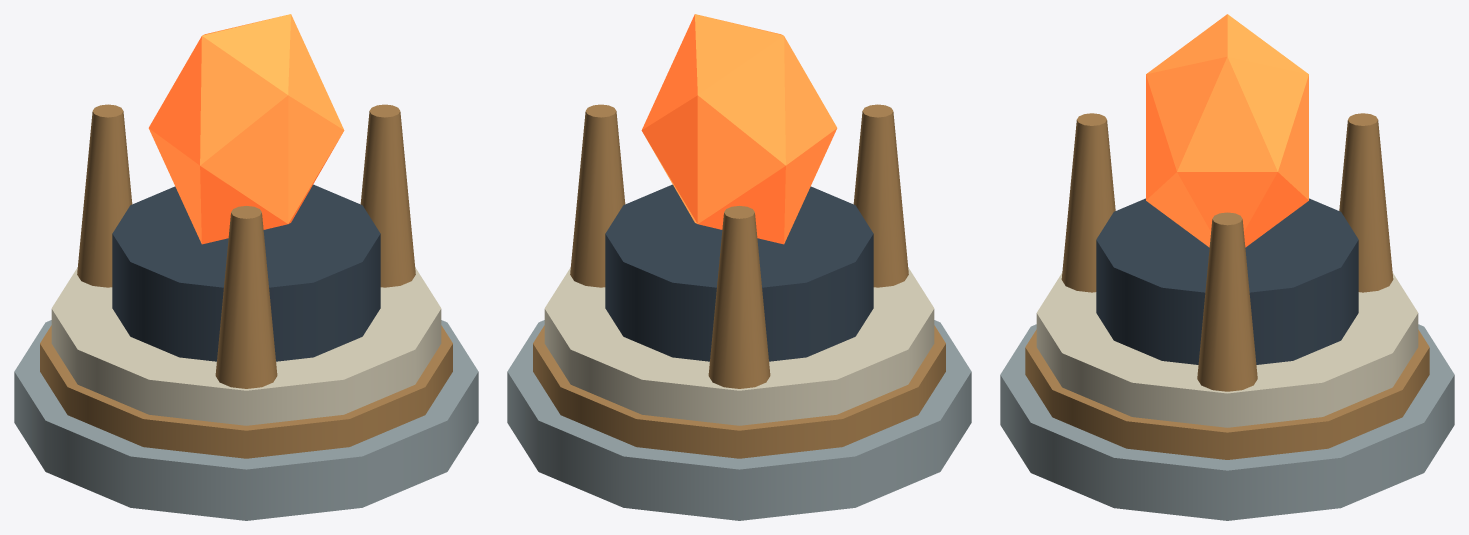
The model's file is sunfall-rift-moba-ember-inhibitor-0712818d__21986.glb.
The picture shows the model from 3 angles, left to right: view 1: azimuth 30°, elevation 25°; view 2: azimuth 150°, elevation 25°; view 3: azimuth 270°, elevation 25°; orthographic projection. The views are drawn at different scales.
Visible parts, largest first — view 1: ember-inhibitor; view 2: ember-inhibitor; view 3: ember-inhibitor.
Boxes of the visible parts, box(x1,y1,x2,y2) form: ember-inhibitor: box(14, 14, 478, 520); ember-inhibitor: box(507, 14, 971, 520); ember-inhibitor: box(1000, 14, 1454, 520).
Size of the model in its own units: 1.8 by 1.7 by 1.8.
